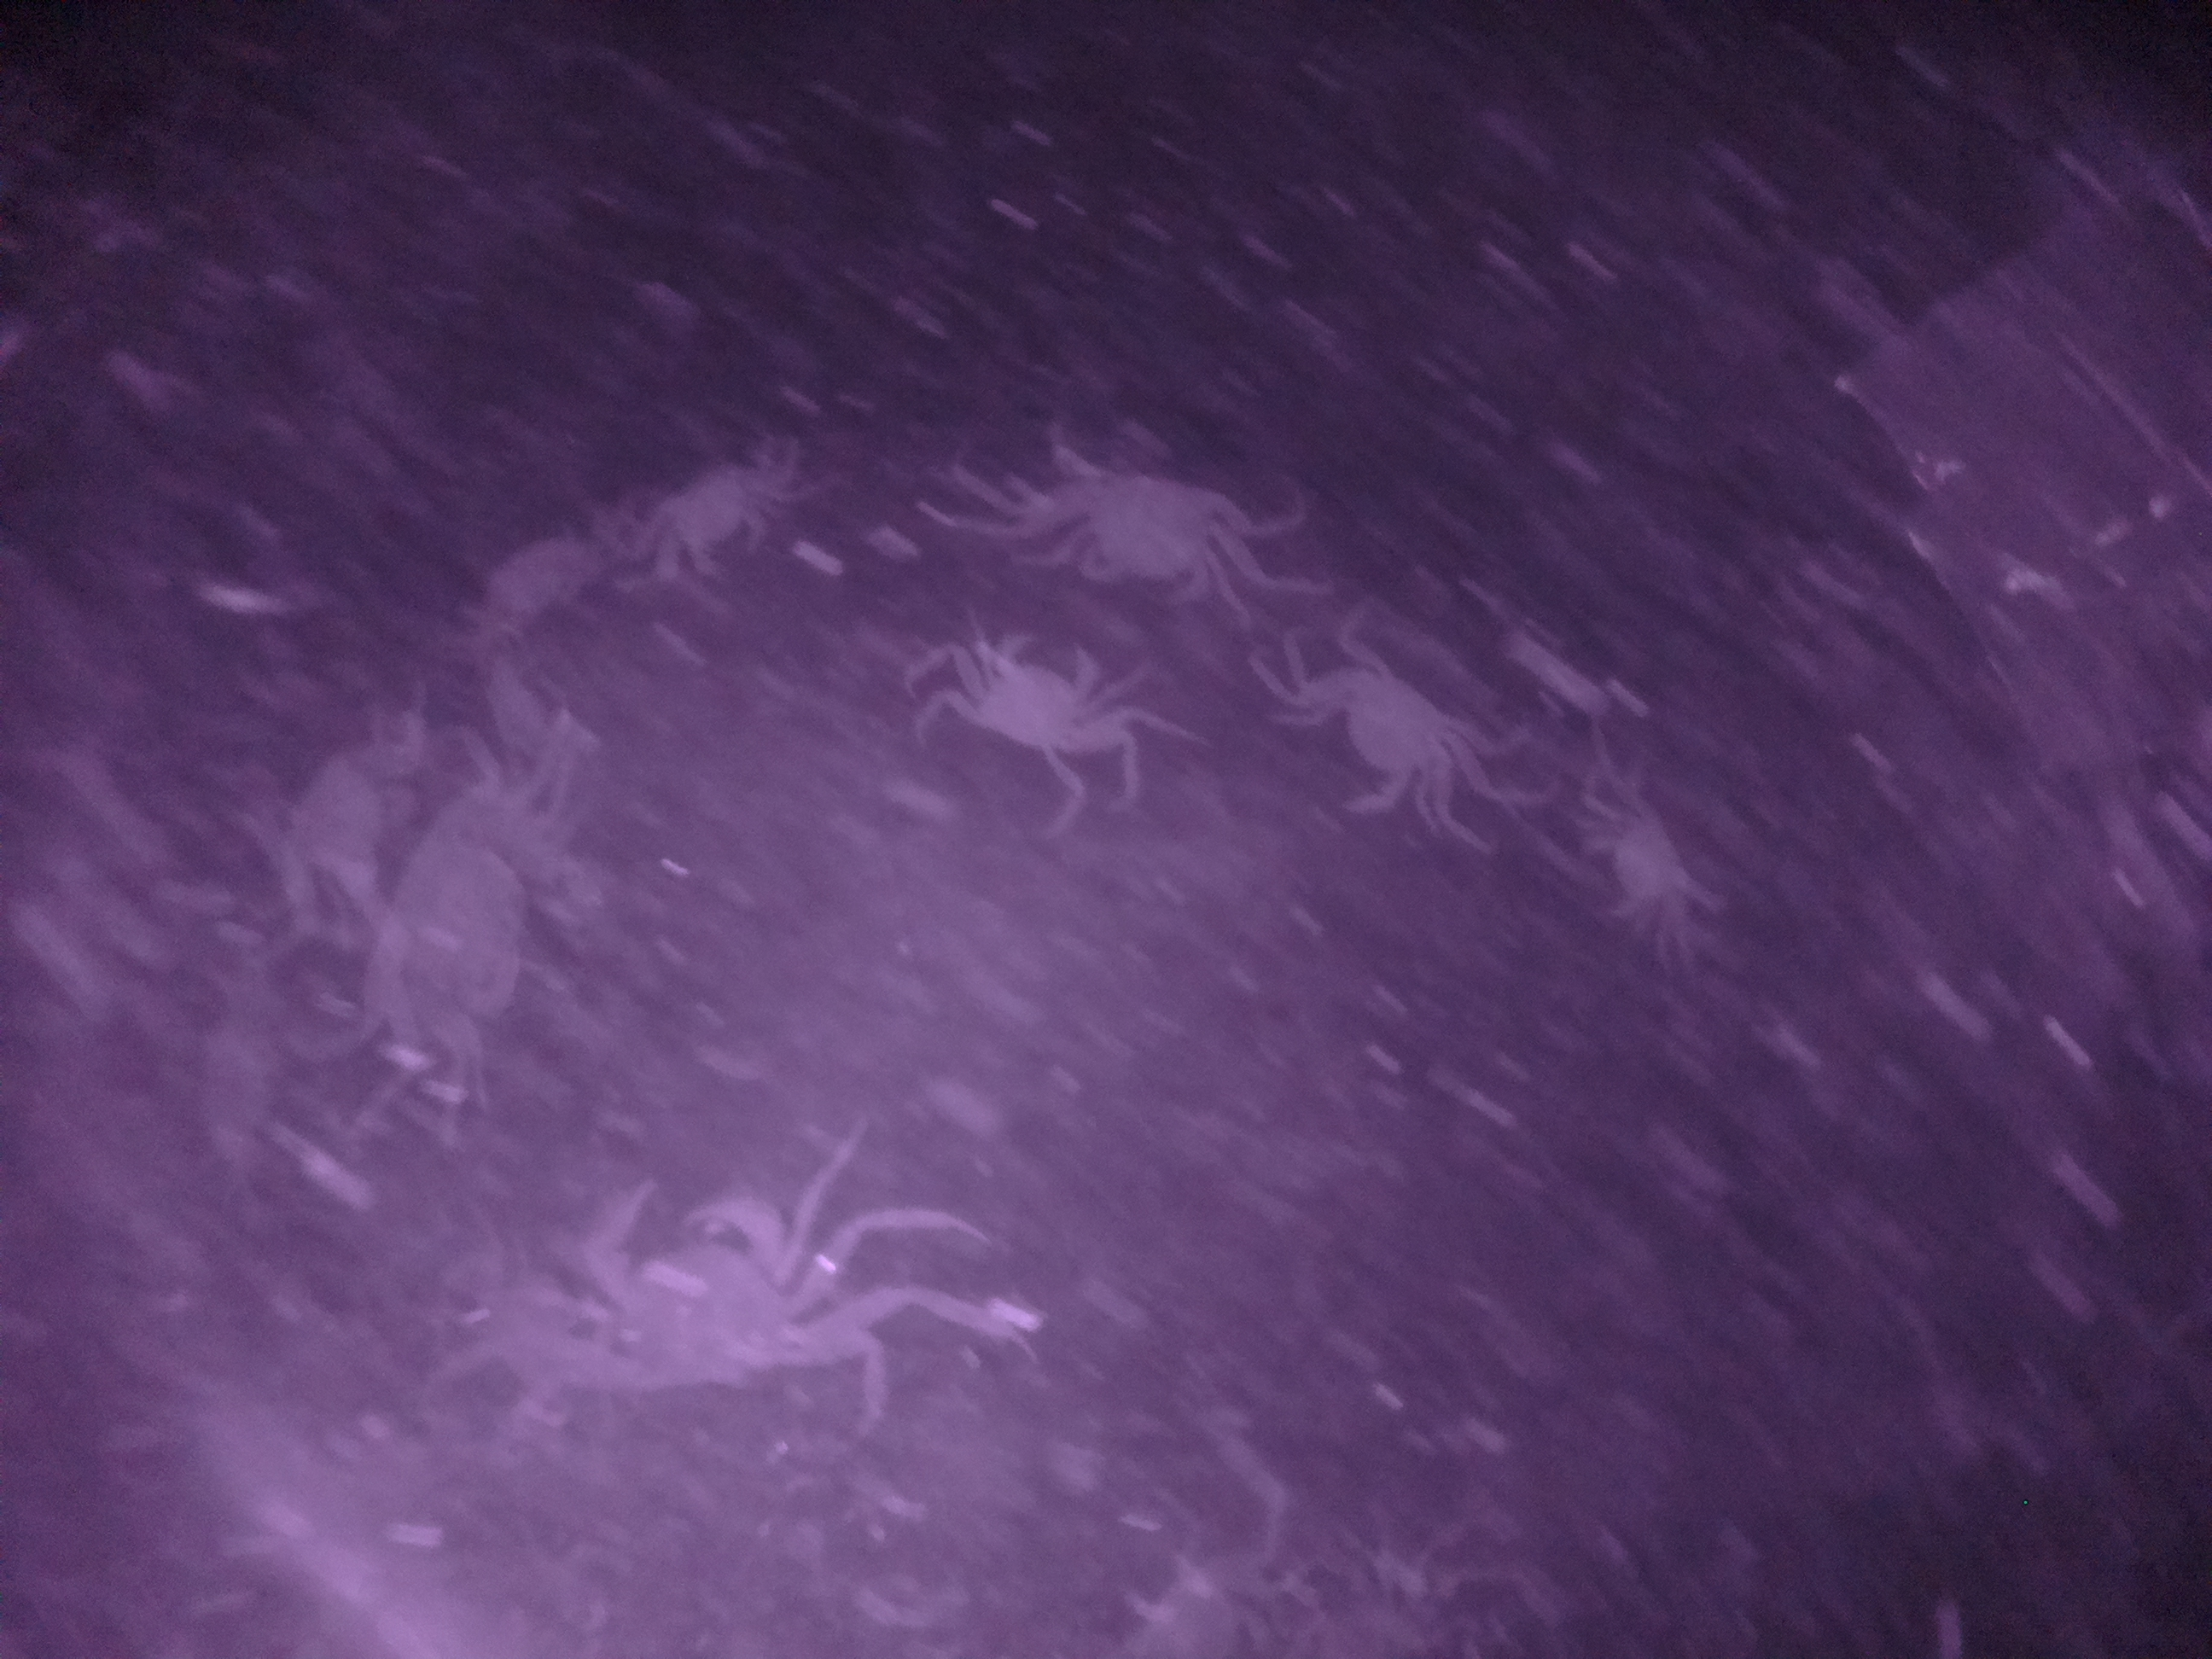Crab: (1035, 446, 1245, 612), (1294, 662, 1487, 824), (934, 608, 1115, 770)
